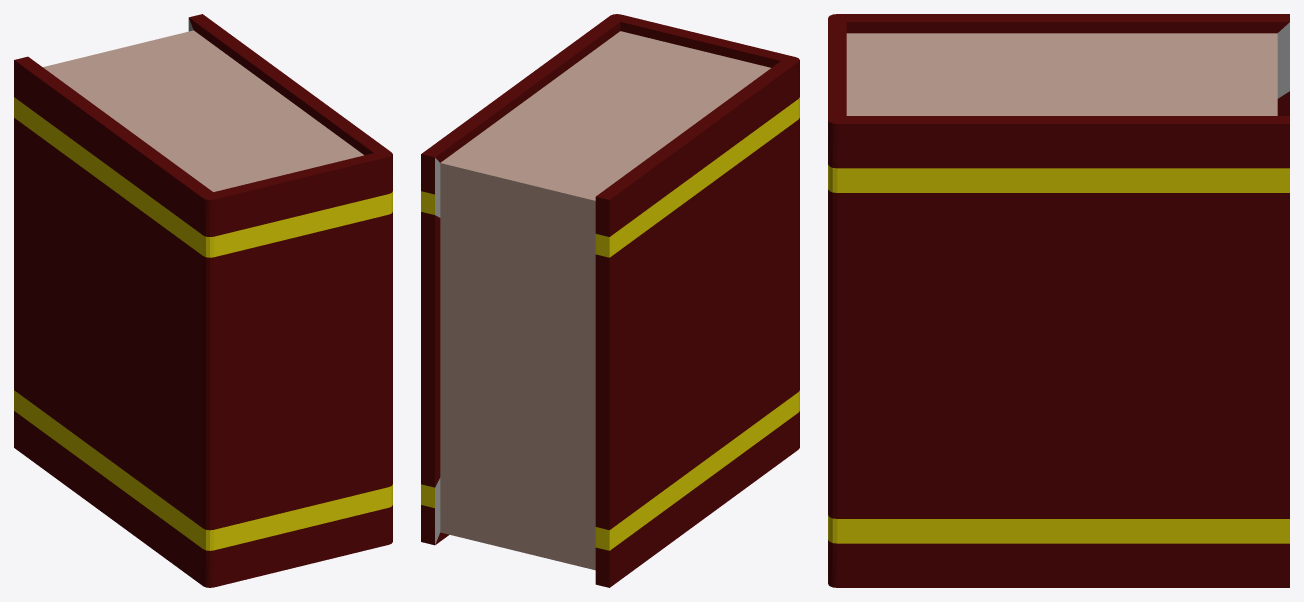
Rendered from Book (Untextured).fbx.
The picture shows the model from 3 angles, left to right: view 1: azimuth 30°, elevation 25°; view 2: azimuth 150°, elevation 25°; view 3: azimuth 270°, elevation 25°; orthographic projection. The views are drawn at different scales.
Visible parts, largest first — view 1: pCube1; view 2: pCube1; view 3: pCube1.
Part boxes in pixels (x1,y1,x2,y2): pCube1: (14, 14, 392, 587); pCube1: (421, 14, 799, 587); pCube1: (828, 14, 1289, 587).
Size of the model in its own units: 1 by 1.97 by 1.77.
